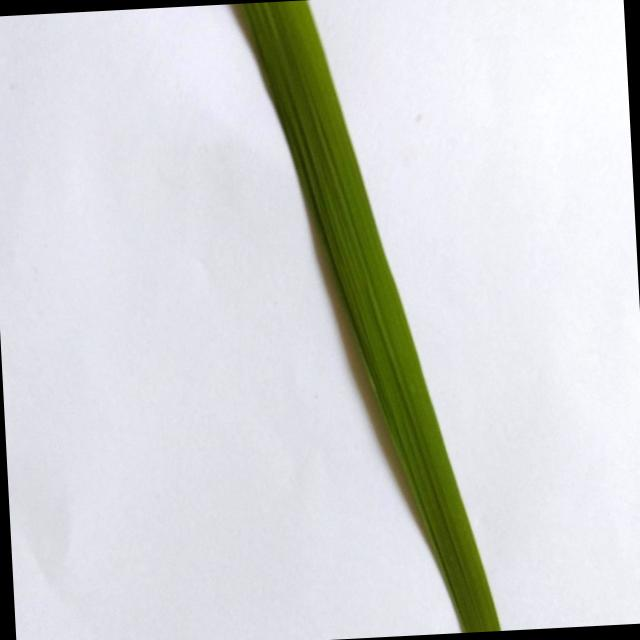Rice_Healthy: (241, 0, 500, 633)
